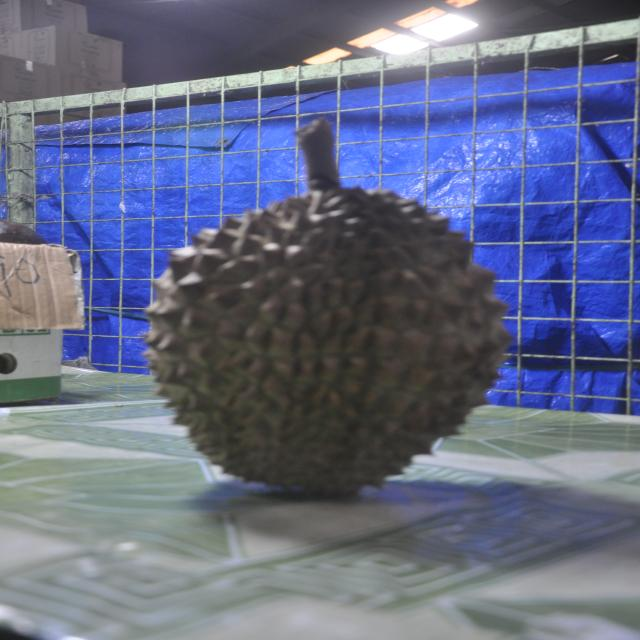mature: (146, 119, 511, 496)
